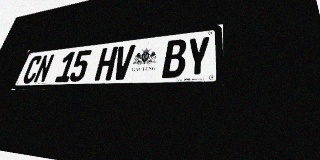1: (54, 51, 78, 82)
5: (68, 50, 92, 82)
B: (162, 39, 187, 78)
C: (21, 55, 43, 84)
H: (94, 46, 118, 81)
N: (32, 54, 55, 83)
V: (111, 44, 136, 80)
Y: (185, 36, 210, 77)
